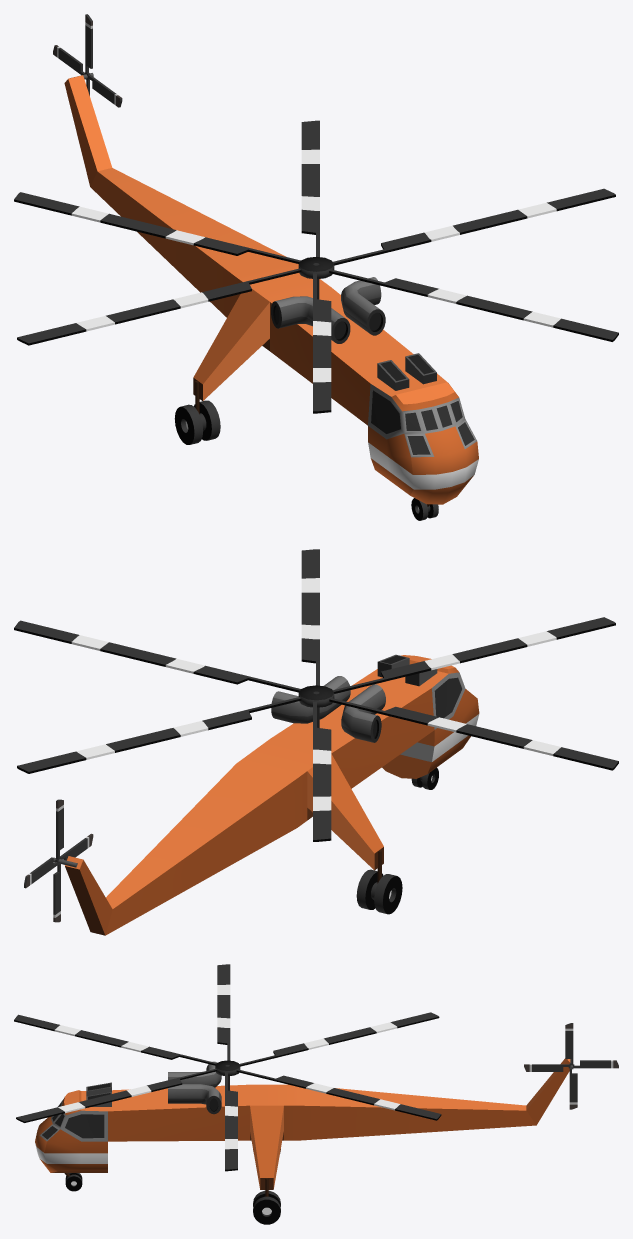
File: Heli_1.fbx
3 views of the same model, one above another, from view 1: azimuth 30°, elevation 25°; view 2: azimuth 150°, elevation 25°; view 3: azimuth 270°, elevation 25° (orthographic). The views are drawn at different scales.
Visible parts, largest first — view 1: Body, Rotor, Rotor_Back; view 2: Body, Rotor, Rotor_Back; view 3: Body, Rotor, Rotor_Back.
Part boxes in pixels (bbox=[...]): Body: bbox=[64, 75, 478, 520]; Rotor: bbox=[14, 120, 618, 413]; Rotor_Back: bbox=[53, 14, 122, 107]; Body: bbox=[65, 654, 479, 935]; Rotor: bbox=[14, 549, 618, 841]; Rotor_Back: bbox=[24, 799, 93, 922]; Body: bbox=[35, 1058, 570, 1224]; Rotor: bbox=[14, 964, 441, 1171]; Rotor_Back: bbox=[524, 1023, 618, 1109].
Size of the model in its own units: 37.98 by 14.72 by 47.3.
